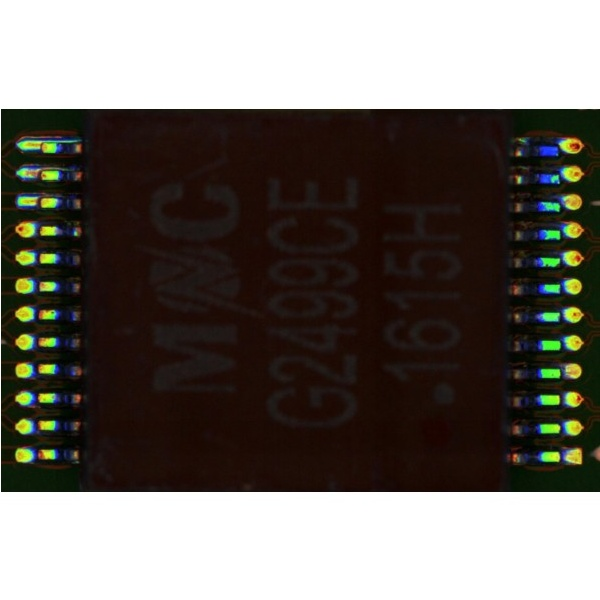Bad_podu: (25, 198, 48, 204), (29, 142, 49, 148)
Bad_qiaojiao: (39, 138, 81, 142), (27, 170, 48, 177), (40, 165, 70, 169)
